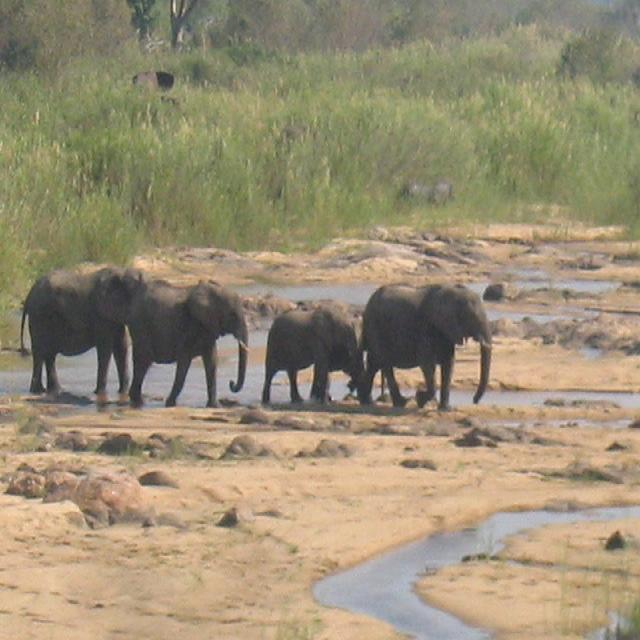Elephant: (358, 280, 492, 409), (19, 263, 145, 397), (124, 275, 249, 408), (261, 303, 368, 404)
